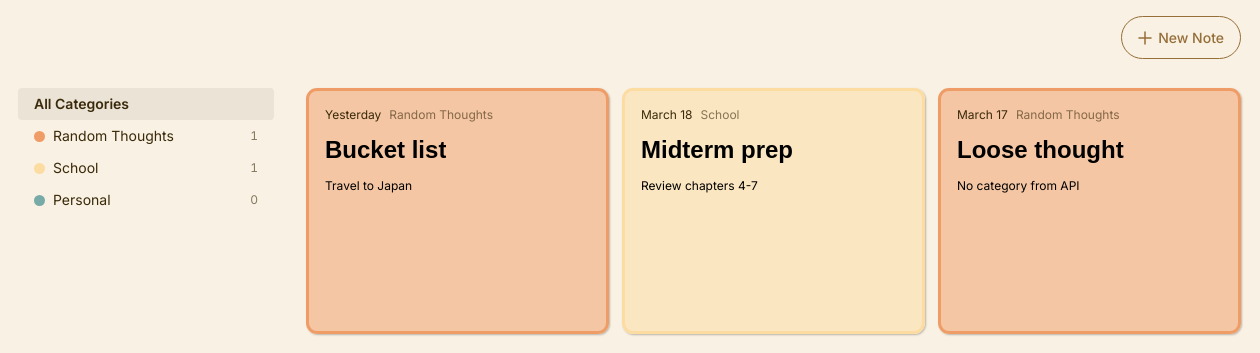
Test: DashboardPage › filters notes by category from the sidebar
Expected: the button "March 18 School Midterm prep Review chapters 4-7" is shown, [622,88,925,334]
Expected: the element showing "All Categories Random Thoughts 1 School 1 Personal 0" is shown, [18,88,274,216]
Click the button "School 1". click: (146, 168)
box: [18,152,274,184]
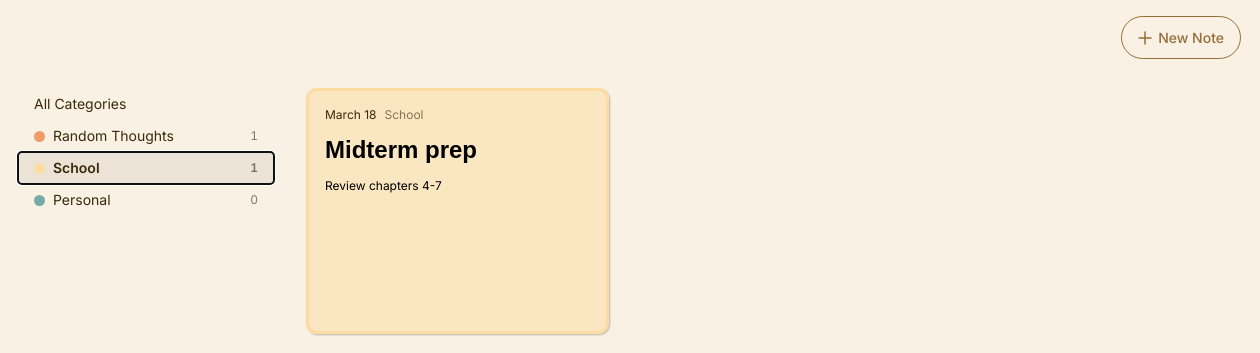
Expected: the button "March 18 School Midterm prep Review chapters 4-7" is shown, [306,88,609,334]
Expected: the button "Bucket list" is gone
